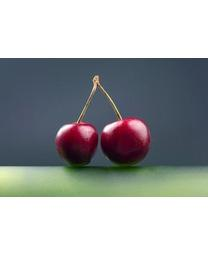cherry: (100, 117, 151, 164), (56, 120, 97, 166)
